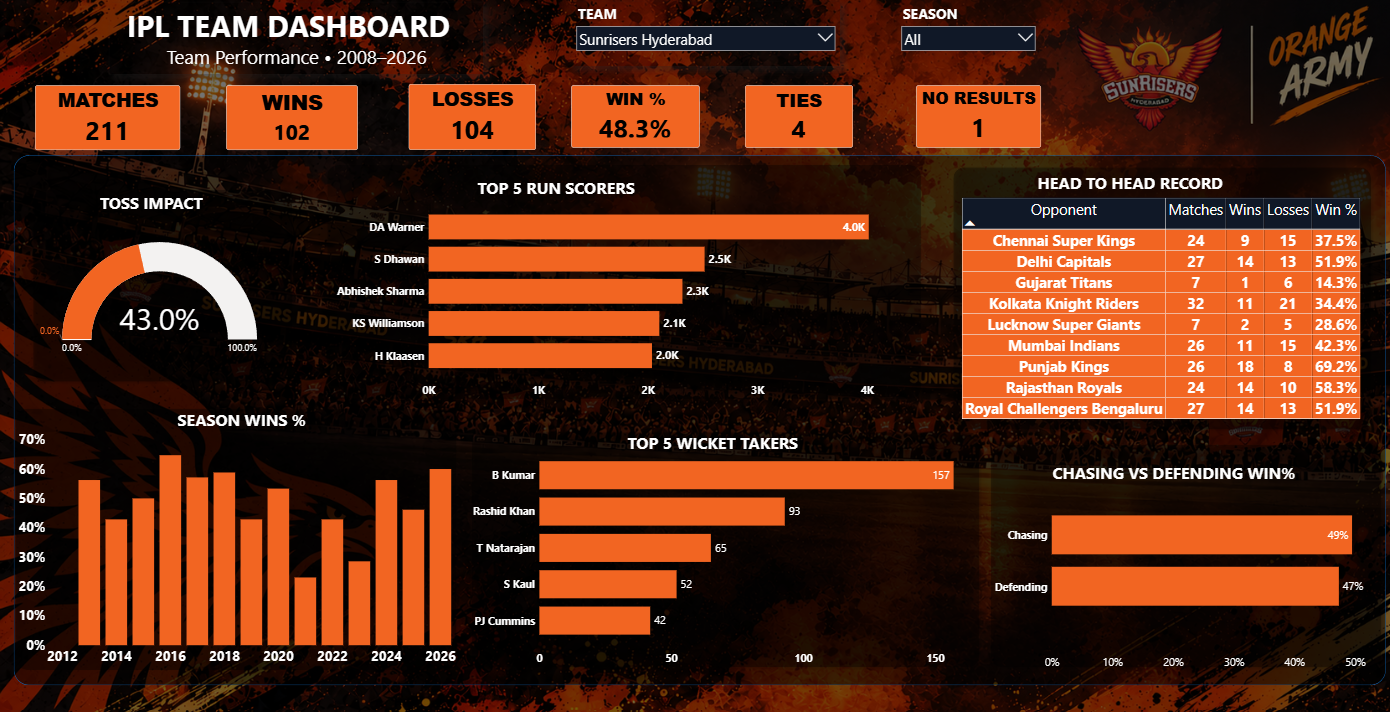

What the dashboard file says about the page in this screenshot:
{"tool":"powerbi","page":{"name":"Page 1","canvas":[2800,1450],"ordinal":0},"visuals":[{"type":"image","box":[0,2.3,2800,1448.5],"z":0},{"type":"shape","box":[0,2.3,2800,1448.5],"z":1000},{"type":"shape","box":[27.2,322.3,2744.3,1060],"z":2000},{"type":"shape","box":[56.7,383.6,535.7,401.8],"z":2500},{"type":"shape","box":[649.2,338.2,1196.2,476.7],"z":2750},{"type":"shape","box":[935.6,868.6,1032.7,487.5],"z":2875},{"type":"shape","box":[27.2,824,889.8,531.2],"z":2937},{"type":"shape","box":[1897.6,338.2,853.5,542.5],"z":2968},{"type":"shape","box":[1972.5,892.1,799,463.1],"z":2984},{"type":"slicer","fields":{"Values":["Dim_Team.Team_Name"]},"box":[1143.6,13.9,538.3,129.4],"z":3000},{"type":"slicer","fields":{"Values":["Dim_Date.Year"]},"box":[1792.7,13.9,288.8,129.4],"z":4000},{"type":"textbox","box":[219.5,18.5,746.2,143.2],"z":5000},{"type":"cardVisual","title":"MATCHES","fields":{"Data":["Dim_Date.Matches Played"]},"box":[70.4,181.6,290.5,129.4],"z":6000},{"type":"cardVisual","title":"WINS","fields":{"Data":["Fact_Match.Wins"]},"box":[452.8,182.5,263.4,129.4],"z":8000},{"type":"cardVisual","title":"LOSSES","fields":{"Data":["Fact_Match.Losses"]},"box":[817.2,179.3,254.2,131.7],"z":9000},{"type":"cardVisual","title":"WIN %","fields":{"Data":["Fact_Match.Win %"]},"box":[1143.6,182.5,256.4,124.8],"z":10000},{"type":"cardVisual","title":"TIES","fields":{"Data":["Fact_Match.Ties"]},"box":[1489,181.6,215.6,124.8],"z":11000},{"type":"cardVisual","title":"NO RESULTS","fields":{"Data":["Fact_Match.No Results"]},"box":[1832,182.5,249.5,124.8],"z":12000},{"type":"clusteredBarChart","title":"Top 5 Run Scorers","fields":{"Y":["Dim_Date.Total Runs"],"Category":["Fact_Ball.batter"]},"box":[667.3,401.8,1125.9,415.4],"z":13000},{"type":"clusteredBarChart","title":"Top 5 Wicket Takers","fields":{"Category":["Fact_Ball.bowler"],"Y":["Fact_Ball.Total Wickets"]},"box":[940.3,891.7,1032.7,462],"z":14000},{"type":"tableEx","title":"HEAD-TO-HEAD RECORD","fields":{"Values":["H2H Opponents.Opponent","Dim_Date.H2H Matches","Dim_Date.H2H Wins","Dim_Date.H2H Losses","Dim_Date.H2H Win %"]},"box":[1918.1,401.8,810.4,469.9],"z":15000},{"type":"clusteredBarChart","title":"Chasing vs Defending","fields":{"Category":["Match Situation.Situation"],"Y":["Match Situation.Situation Win %"]},"box":[1988.4,937.5,783.1,419.9],"z":16000},{"type":"clusteredColumnChart","title":"Season Wins","fields":{"Y":["Dim_Date.Season Win %"],"Category":["Dim_Date.Year"]},"box":[32.3,868.6,884.8,485.1],"z":17000},{"type":"gauge","title":"Toss Impact","fields":{"Y":["Dim_Date.Toss Win Match %"]},"box":[70.4,474.4,449.4,272.4],"z":18000},{"type":"textbox","box":[196,390,301.9,72.6],"z":19000},{"type":"textbox","box":[950,360,397.2,81.7],"z":20000},{"type":"textbox","box":[2070,350,492.6,145.3],"z":21000},{"type":"textbox","box":[350,825,300,300],"z":22000},{"type":"textbox","box":[1250,870,399.7,83.2],"z":23000},{"type":"textbox","box":[2100,930,559.1,122.4],"z":24000}]}

Visuals, with their boxes in screenshot pixels (x1, y1, x2, y2), scaled from the page's 2800x1450 canvas onto the 1390x712 screenshot:
image: select_region(0, 1, 1389, 711)
shape: select_region(0, 1, 1389, 711)
shape: select_region(14, 158, 1376, 679)
shape: select_region(28, 188, 294, 386)
shape: select_region(322, 166, 916, 400)
shape: select_region(464, 427, 977, 666)
shape: select_region(14, 405, 455, 665)
shape: select_region(942, 166, 1366, 432)
shape: select_region(979, 438, 1376, 665)
slicer - Dim_Team.Team_Name: select_region(568, 7, 835, 70)
slicer - Dim_Date.Year: select_region(890, 7, 1033, 70)
textbox: select_region(109, 9, 479, 79)
"MATCHES" cardVisual: select_region(35, 89, 179, 153)
"WINS" cardVisual: select_region(225, 90, 356, 153)
"LOSSES" cardVisual: select_region(406, 88, 532, 153)
"WIN %" cardVisual: select_region(568, 90, 695, 151)
"TIES" cardVisual: select_region(739, 89, 846, 150)
"NO RESULTS" cardVisual: select_region(909, 90, 1033, 151)
"Top 5 Run Scorers" clusteredBarChart: select_region(331, 197, 890, 401)
"Top 5 Wicket Takers" clusteredBarChart: select_region(467, 438, 979, 665)
"HEAD-TO-HEAD RECORD" tableEx: select_region(952, 197, 1355, 428)
"Chasing vs Defending" clusteredBarChart: select_region(987, 460, 1376, 667)
"Season Wins" clusteredColumnChart: select_region(16, 427, 455, 665)
"Toss Impact" gauge: select_region(35, 233, 258, 367)
textbox: select_region(97, 192, 247, 227)
textbox: select_region(472, 177, 669, 217)
textbox: select_region(1028, 172, 1272, 243)
textbox: select_region(174, 405, 323, 552)
textbox: select_region(621, 427, 819, 468)
textbox: select_region(1042, 457, 1320, 517)
